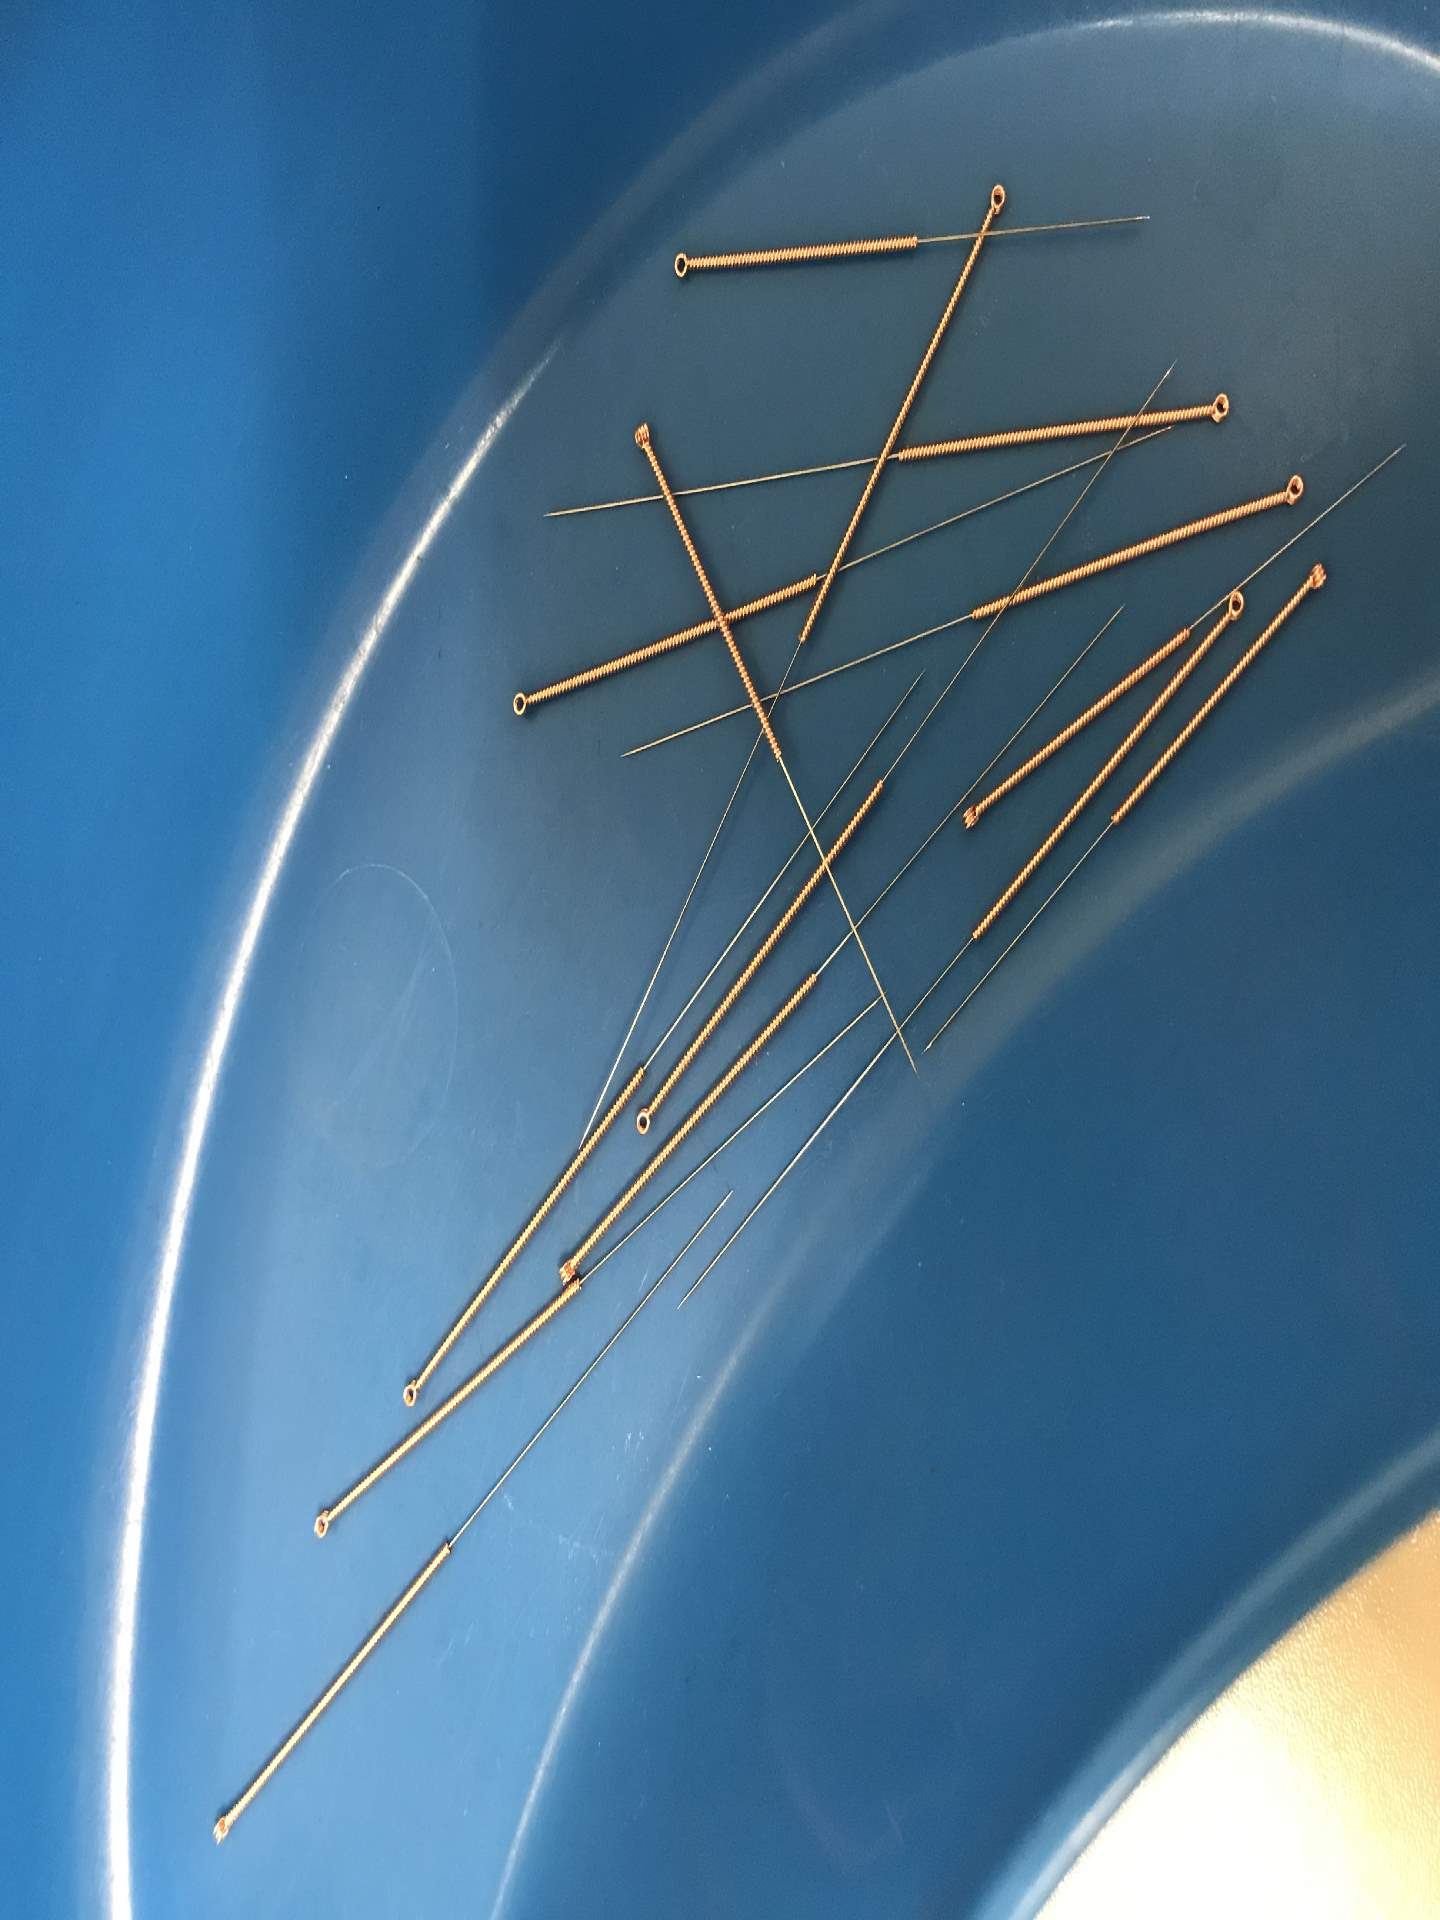needle: (663, 240, 703, 290), (1268, 466, 1308, 516), (203, 1804, 244, 1853), (623, 413, 663, 464), (1196, 384, 1237, 432), (974, 177, 1012, 225), (1298, 553, 1333, 605), (502, 679, 538, 726), (393, 1370, 430, 1417), (307, 1497, 340, 1545), (1218, 581, 1249, 630), (954, 795, 989, 841), (628, 1095, 659, 1141), (554, 1246, 581, 1288)
